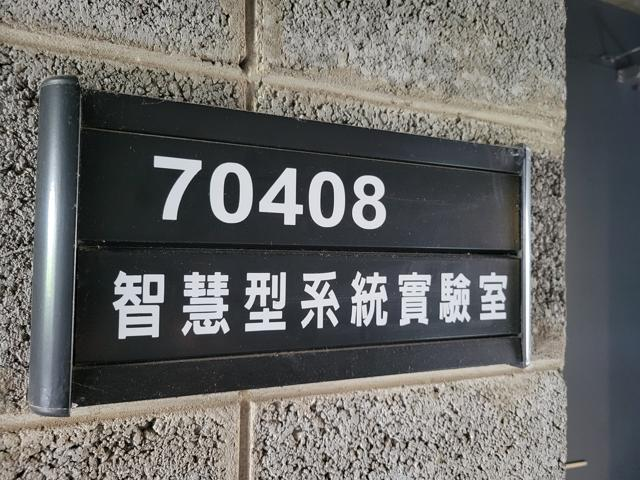doorplate: (22, 65, 543, 424)
